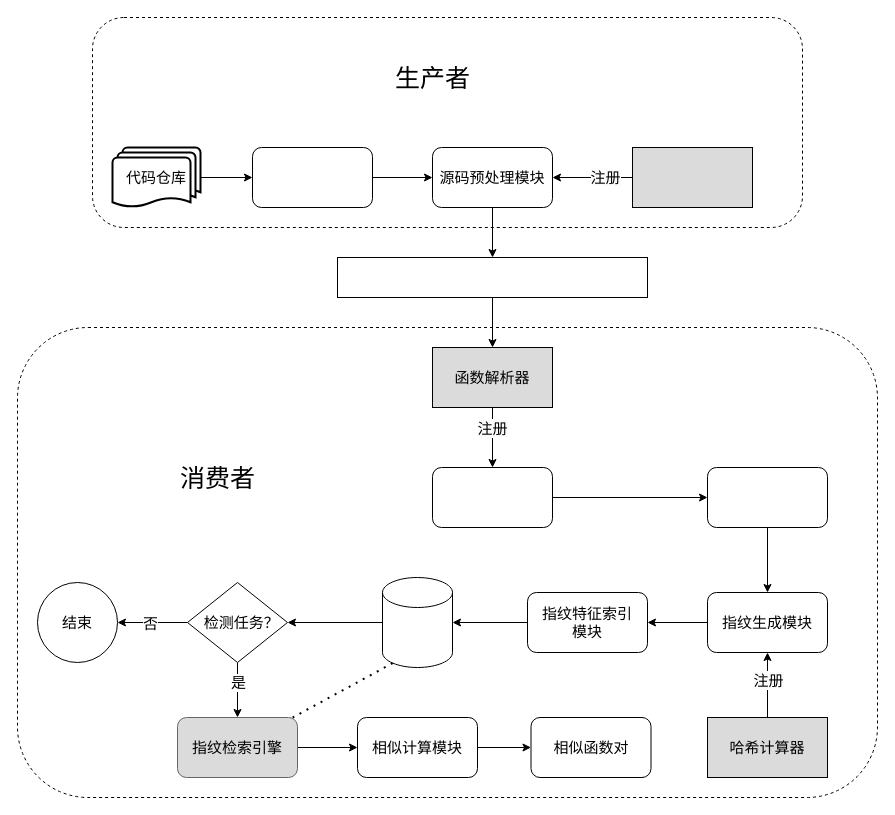
This 895x815 diagram has some shape labels left out. The shapes that lost their labels are listed below. From the top down, each one's centre as x and y in pixels, then its label:
At (312,177): "语言识别模块".
At (692,177): "多语言 符号解析器".
At (492,277): "共享函数文件映射表".
At (492,497): "原始信息提取 模块".
At (767,497): "规范化模块".
At (417,622): "特征指纹数据库".
